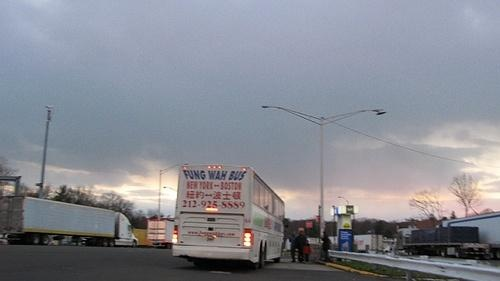bus: (171, 165, 287, 273)
